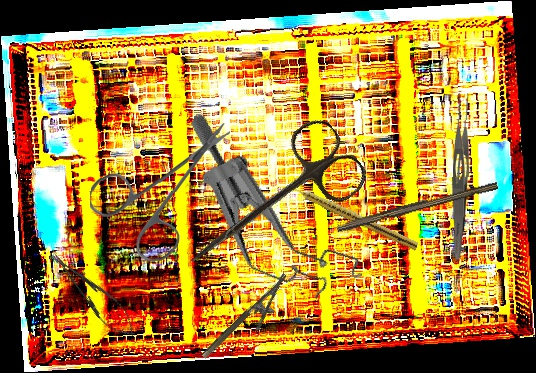Dressing Forceps: (451, 92, 472, 262)
Handpiece: (288, 180, 420, 252)
Iris Scissors: (167, 111, 374, 299), (89, 120, 230, 264)
Needle Holder: (199, 273, 301, 371), (45, 246, 143, 344)
Scalpel Handle: (335, 177, 499, 235)
Speculum: (145, 109, 397, 316)
